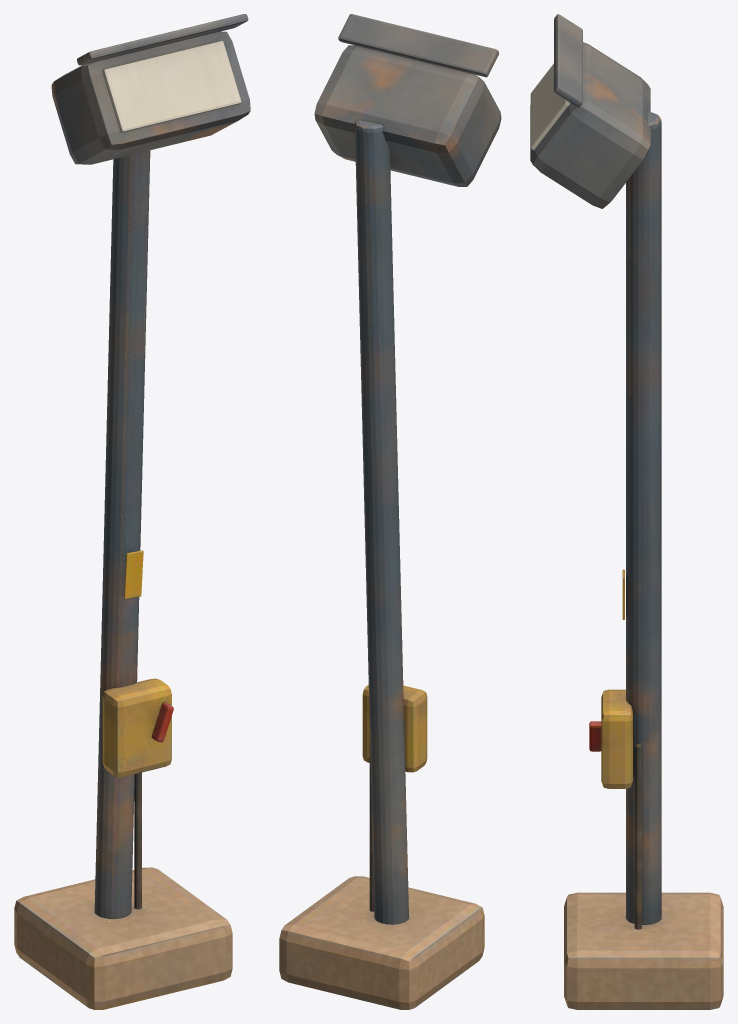
The model's file is floodlight.glb.
3 renders of one model, left to right at view 1: azimuth 30°, elevation 25°; view 2: azimuth 150°, elevation 25°; view 3: azimuth 270°, elevation 25°, orthographic. The views are drawn at different scales.
Visible parts, largest first — view 1: Floodlight_Mesh, Head_Mesh, Lens_Mesh; view 2: Floodlight_Mesh, Head_Mesh; view 3: Floodlight_Mesh, Head_Mesh, Lens_Mesh.
Boxes of the visible parts, x1,y1,x2,y2 form: Floodlight_Mesh: (14,150,232,1009); Head_Mesh: (51,14,250,164); Lens_Mesh: (102,41,241,132); Floodlight_Mesh: (279,120,484,1009); Head_Mesh: (314,14,501,186); Floodlight_Mesh: (564,112,723,1009); Head_Mesh: (530,14,650,208); Lens_Mesh: (530,63,570,150).
Size of the model in its own units: 0.66 by 3.86 by 0.7261.
Materials: 3 (3 with a texture image).
